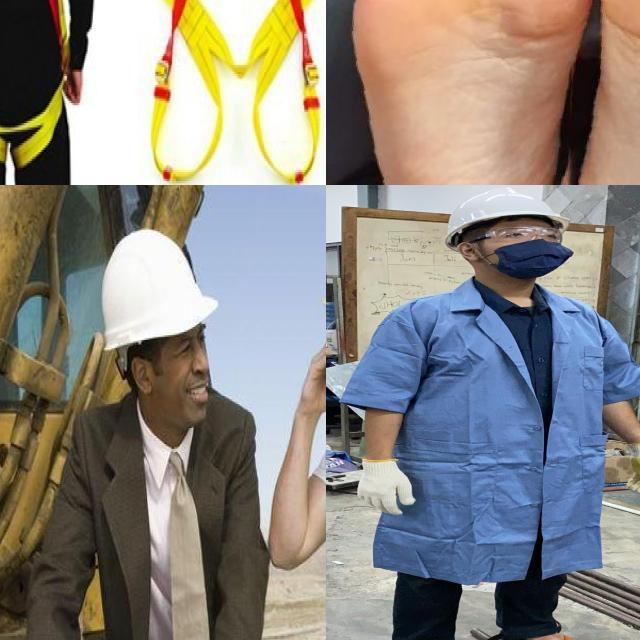Barefoots: (349, 0, 583, 185), (562, 0, 640, 185)
Harness: (0, 0, 68, 163)
face_mask: (482, 221, 570, 277)
face_nomask: (158, 320, 221, 418)
glasses: (464, 224, 568, 244)
hand_glove: (345, 453, 426, 516), (606, 440, 640, 498)
hand_noglove: (95, 227, 222, 349), (296, 330, 326, 412)
head_helmet: (445, 185, 579, 237)
person: (349, 185, 640, 640), (35, 224, 275, 640)
